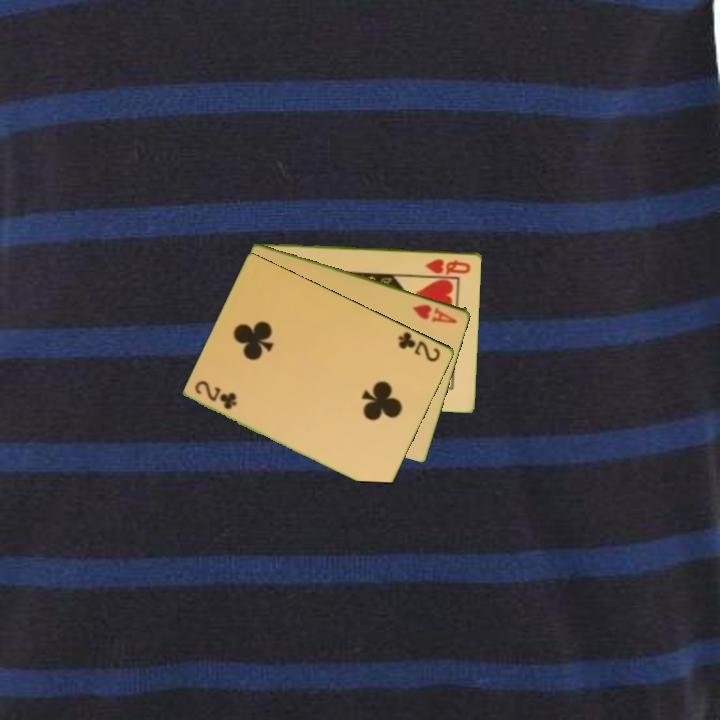2c: (395, 328, 444, 365), (191, 377, 240, 412)
Ah: (409, 300, 461, 326)
Qh: (422, 255, 474, 276)
